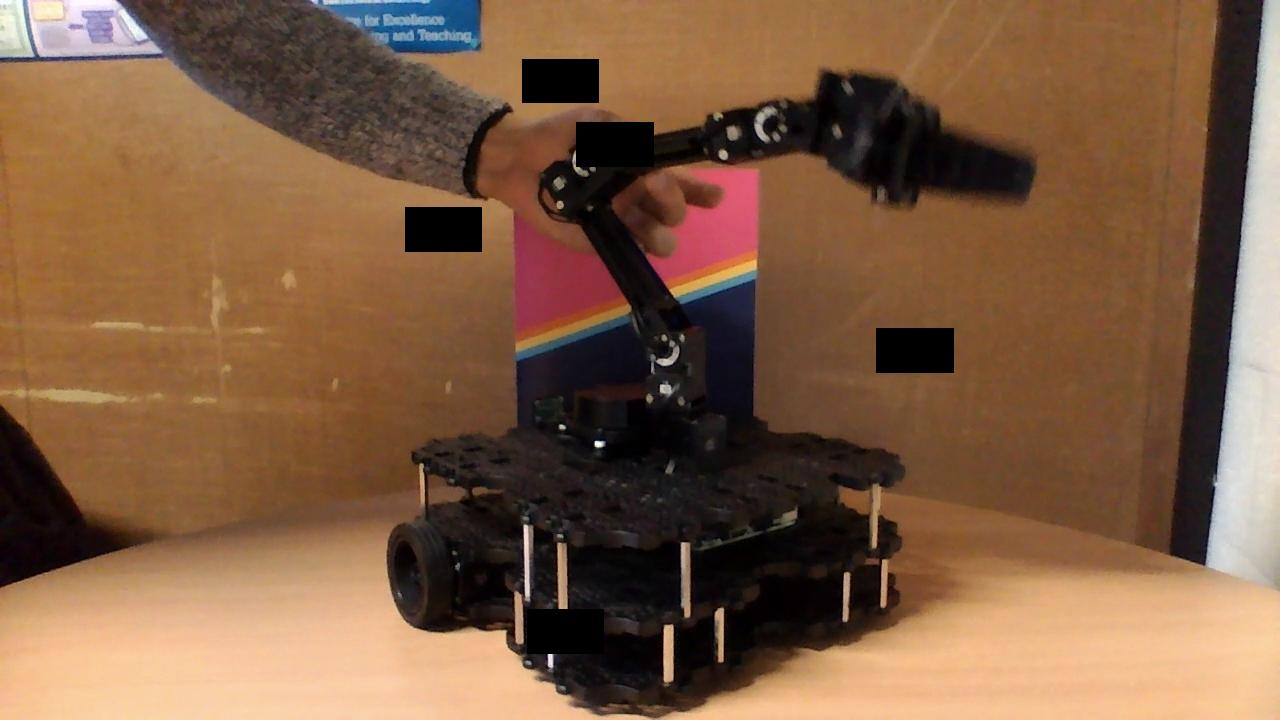Arm: (534, 157, 707, 371)
Hand: (808, 62, 1040, 214)
Wrist: (571, 90, 802, 185)
base: (385, 380, 905, 706)
